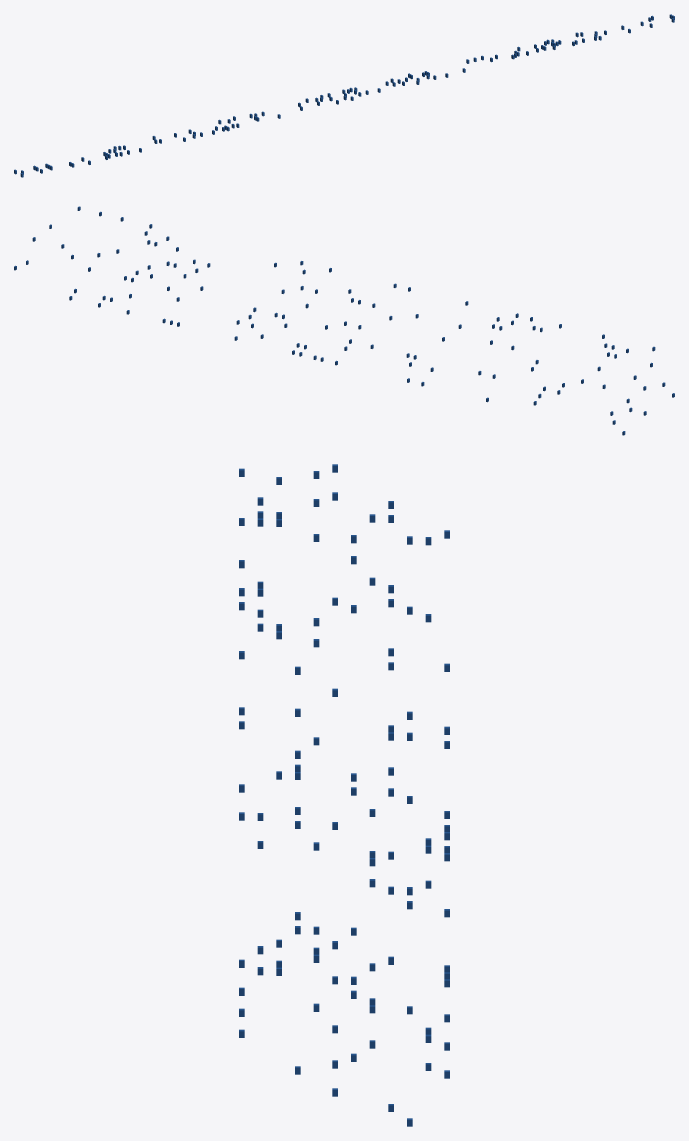
Rendered from SM_DV_05_Grandstand_steps_seating_and_crowd_blue.fbx.
The picture shows the model from 3 angles, top to bottom: view 1: azimuth 30°, elevation 25°; view 2: azimuth 150°, elevation 25°; view 3: azimuth 270°, elevation 25°; orthographic projection. The views are drawn at different scales.
Visible parts, largest first — view 1: 05 Grandstand steps seating and crowd | blue; view 2: 05 Grandstand steps seating and crowd | blue; view 3: 05 Grandstand steps seating and crowd | blue.
Boxes of the visible parts, box(x1,y1,x2,y2) form: 05 Grandstand steps seating and crowd | blue: box(14, 14, 674, 177); 05 Grandstand steps seating and crowd | blue: box(14, 206, 674, 435); 05 Grandstand steps seating and crowd | blue: box(239, 464, 449, 1126).
Size of the model in its own units: 7137 by 1018 by 476.
